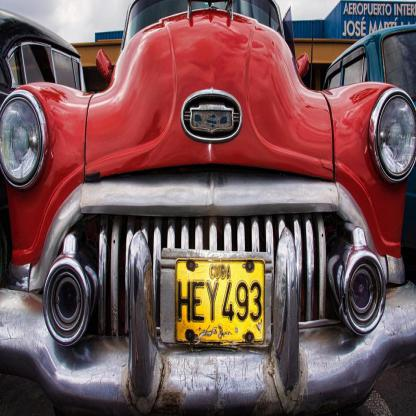Car: (0, 0, 415, 415), (0, 7, 86, 105), (324, 22, 416, 106)
